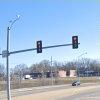traffic lights: (72, 38, 79, 50), (38, 43, 42, 54)
